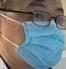with_mask: (1, 1, 66, 69)
